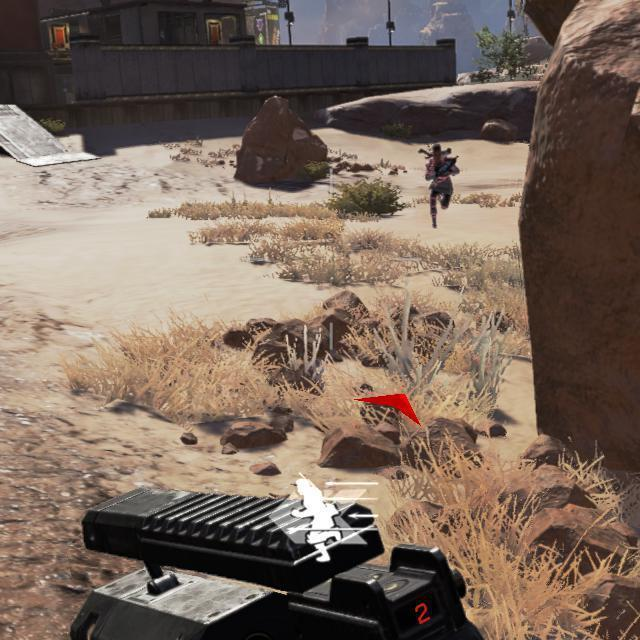avatar: (418, 143, 462, 230)
